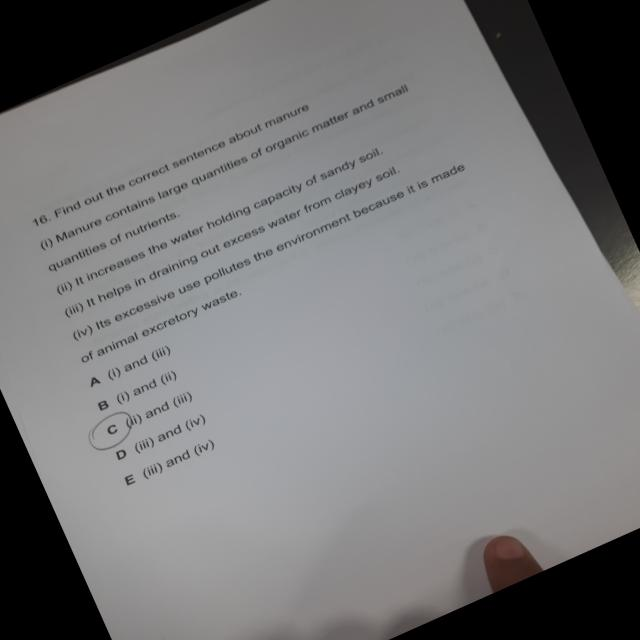C: (79, 404, 148, 459)
